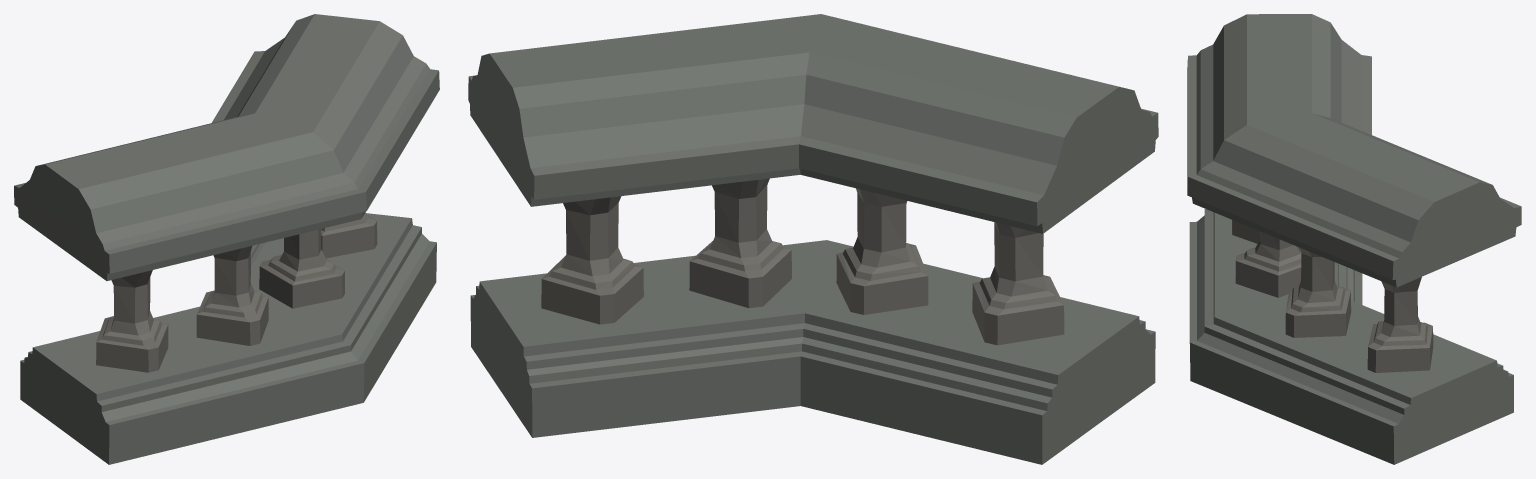
Rendered from MCastle_Baluster_Corner_02.FBX.
3 views of the same model, side by side, from view 1: azimuth 30°, elevation 25°; view 2: azimuth 150°, elevation 25°; view 3: azimuth 270°, elevation 25° (orthographic). The views are drawn at different scales.
Visible parts, largest first — view 1: MCastle_Baluster_Corner_02_LOD0; view 2: MCastle_Baluster_Corner_02_LOD0; view 3: MCastle_Baluster_Corner_02_LOD0.
Boxes of the visible parts, box(x1,y1,x2,y2) form: MCastle_Baluster_Corner_02_LOD0: box(14, 14, 439, 464); MCastle_Baluster_Corner_02_LOD0: box(468, 14, 1158, 464); MCastle_Baluster_Corner_02_LOD0: box(1187, 14, 1521, 464).
Size of what is drawn, in the model's own units: 2.15 by 1.2 by 1.48.
